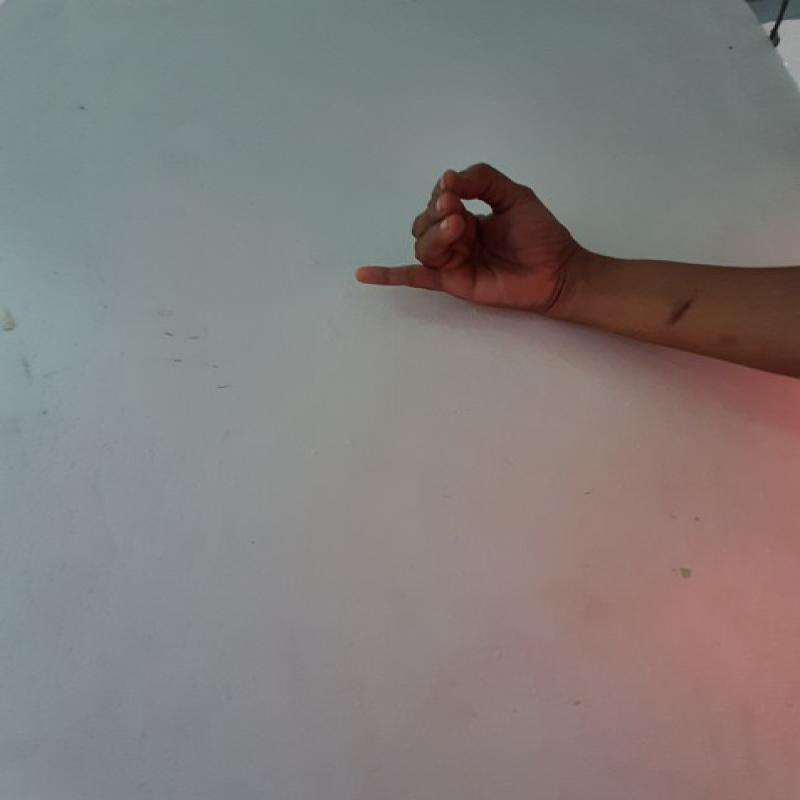Kartharee Mukham: (332, 154, 587, 337)
